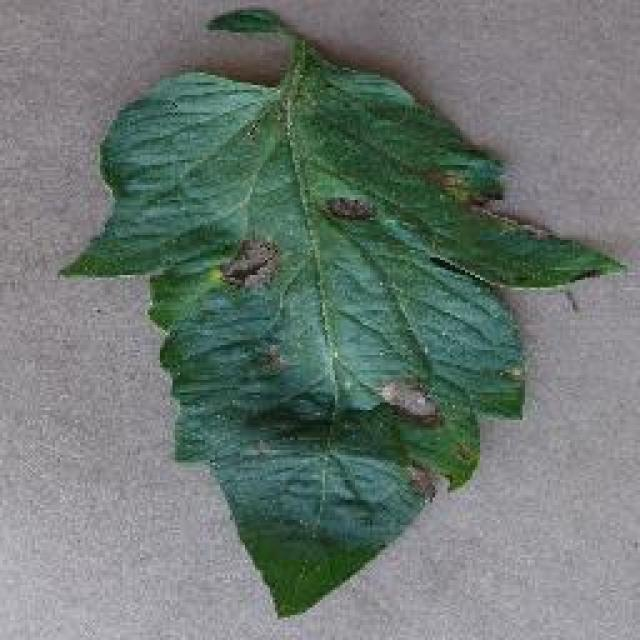Tomato___Early_blight: (52, 5, 636, 621)
